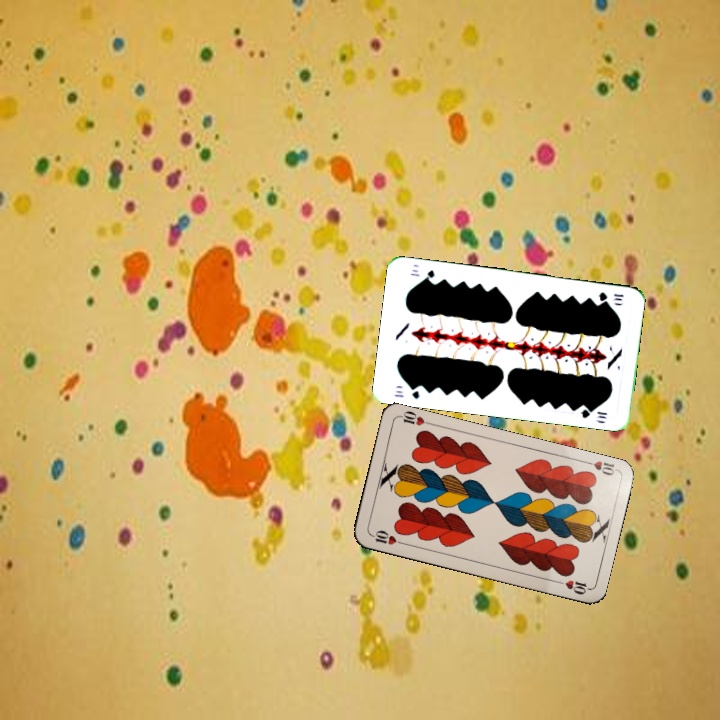G10: (390, 382, 422, 401), (595, 288, 626, 304)
H10: (367, 526, 407, 548), (580, 457, 620, 478)
